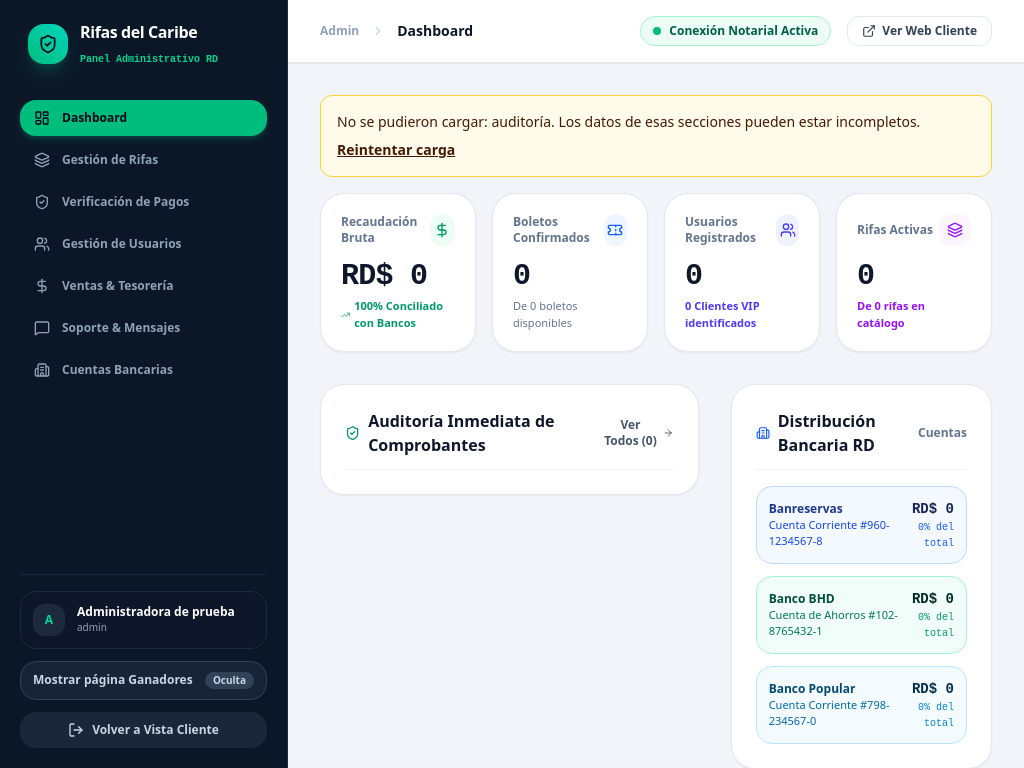
Test: Acceso administrativo › abre el panel aunque falle una sección y permite reintentar
This screenshot has width=1024, height=768.
Check: the text "Panel Administrativo RD" is shown, box x1=80 y1=54 x2=218 y2=65
Check: the message shows "auditoría", box x1=492 y1=112 x2=551 y2=131
What coordinates should you click on to do the following:
click the button "Reintentar carga"
I would click on:
 (396, 150)
Its box is x1=337 y1=140 x2=455 y2=160.
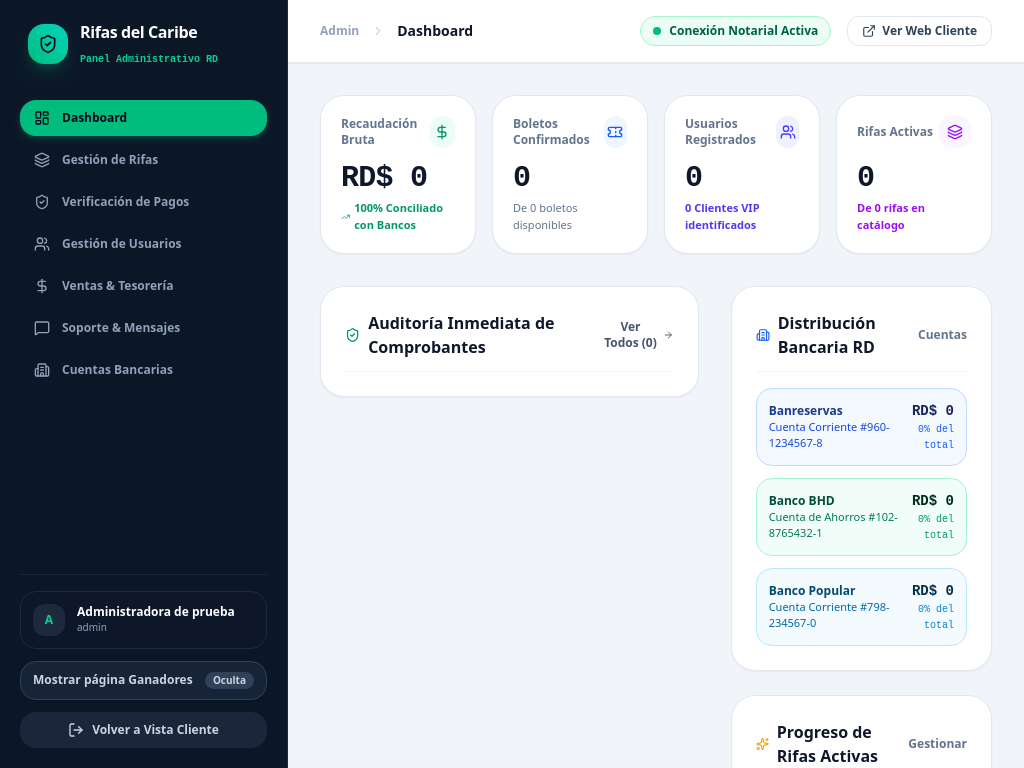
Check: the message is gone
